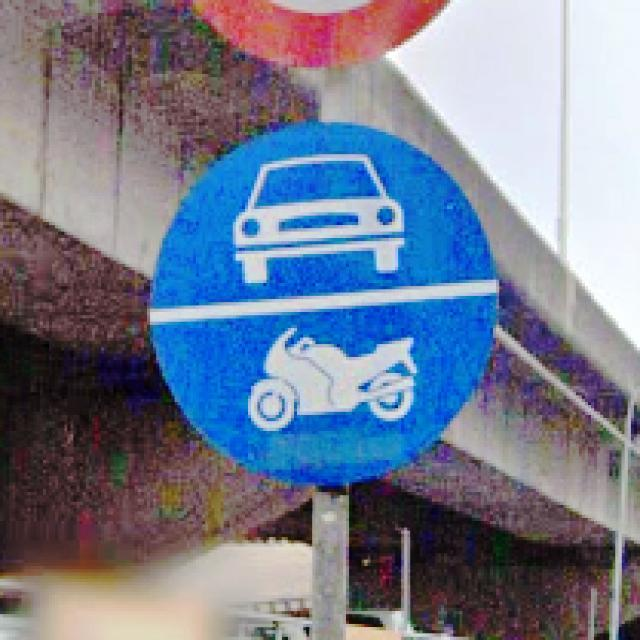carmotorcycle: (144, 116, 502, 486)
